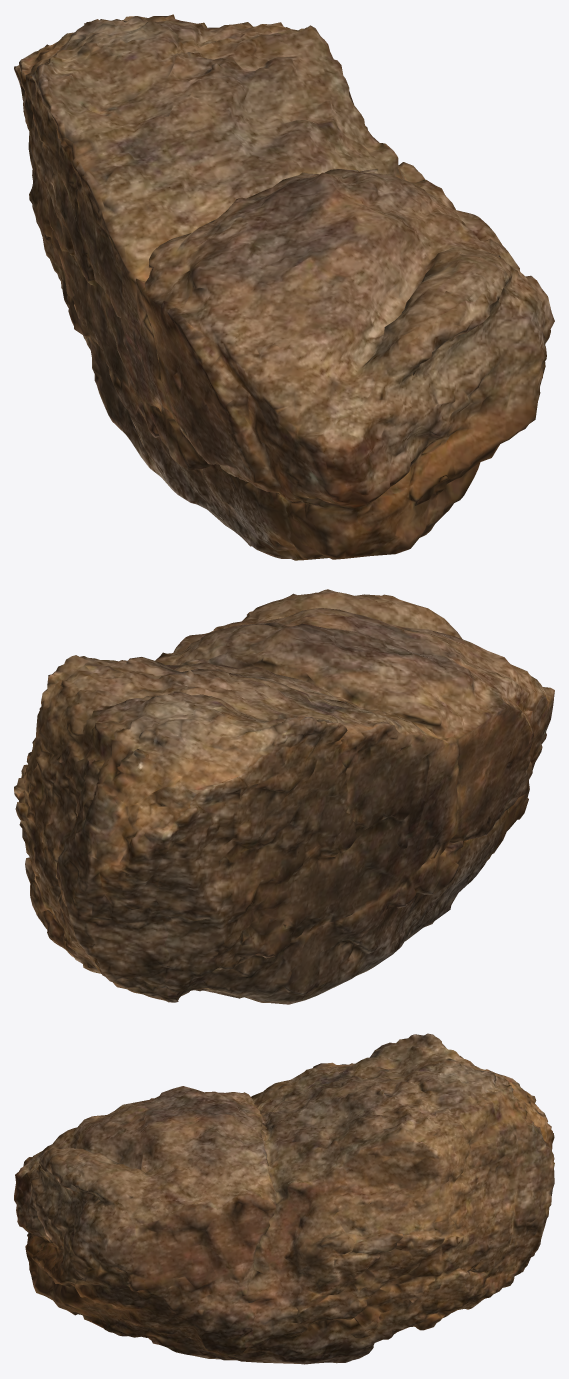
The model's file is namaqualand_boulder_06.glb.
3 renders of one model, top to bottom at view 1: azimuth 30°, elevation 25°; view 2: azimuth 150°, elevation 25°; view 3: azimuth 270°, elevation 25°, orthographic. The views are drawn at different scales.
Visible parts, largest first — view 1: namaqualand_boulder_06; view 2: namaqualand_boulder_06; view 3: namaqualand_boulder_06.
Boxes of the visible parts, left/top/right/bottom form: namaqualand_boulder_06: left=14, top=14, right=554, bottom=560; namaqualand_boulder_06: left=14, top=589, right=554, bottom=1004; namaqualand_boulder_06: left=14, top=1033, right=554, bottom=1364.
Size of the model in its own units: 0.6747 by 0.6511 by 1.21.
1 material, 1 textured.
